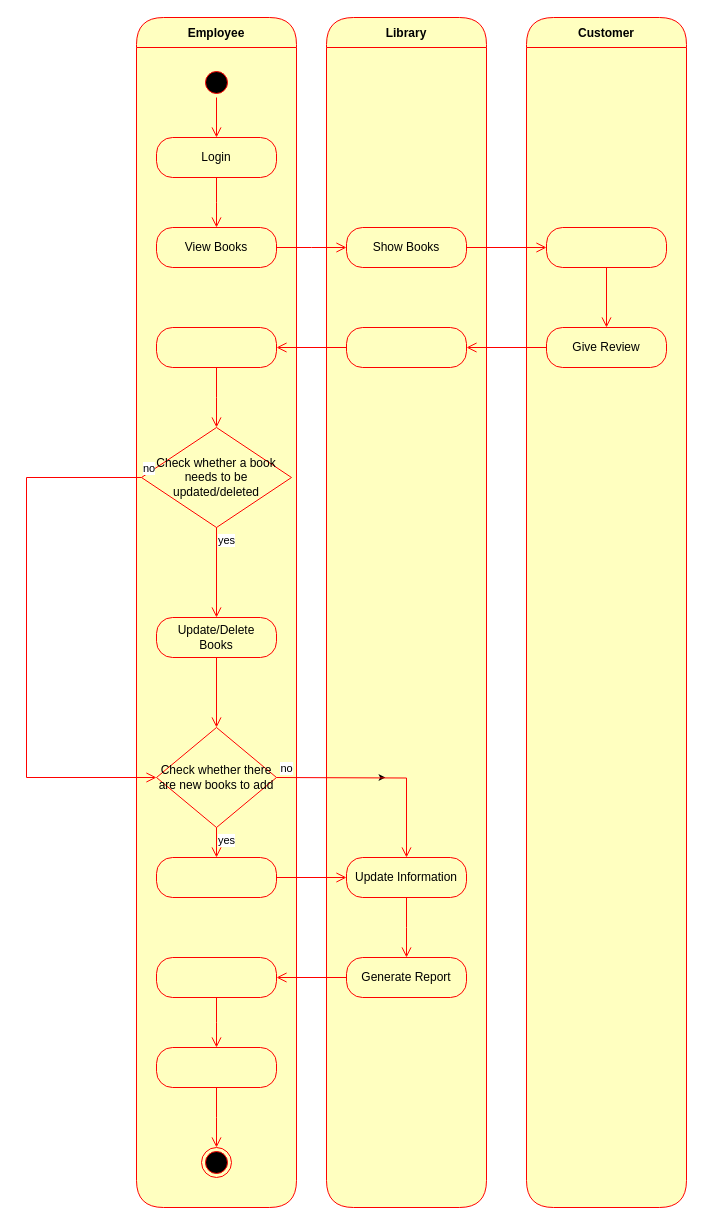
This 704x1225 diagram has some shape labels left out. The shapes that lost their labels are listed below. From the top down, each one's centre as x and y in pixels, then its label:
(x=606, y=247): Read Books
(x=216, y=347): Receive Reports
(x=406, y=347): Store Reviews
(x=216, y=877): Add New Books
(x=216, y=977): Receive Report
(x=216, y=1067): Logout
